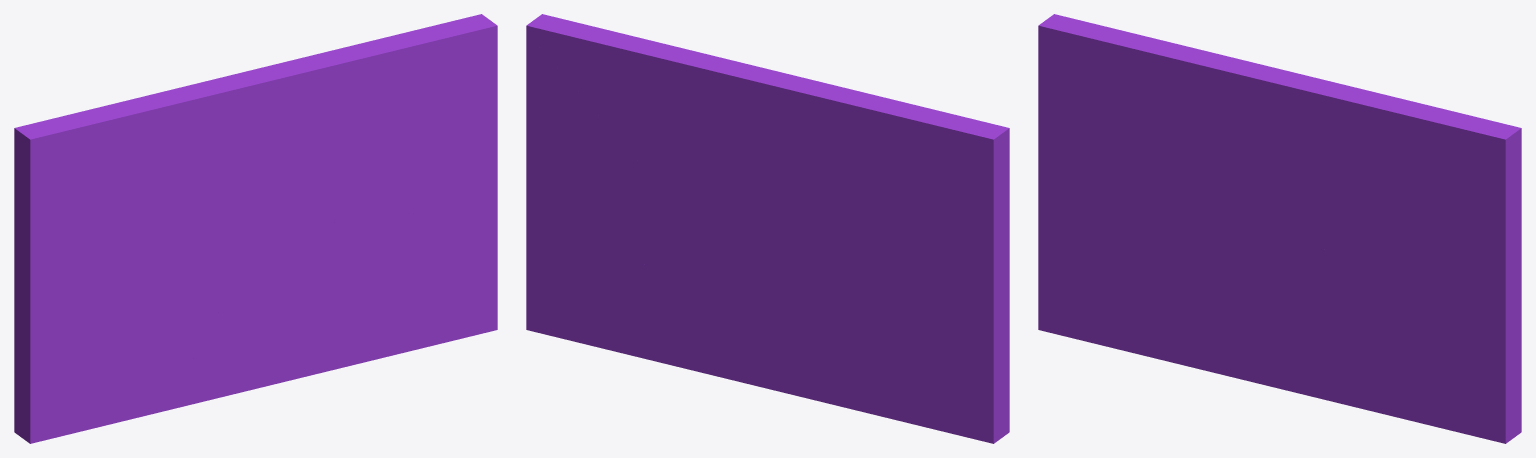
The model's file is Barrier_73_chunks.fbx.
3 renders of one model, left to right at view 1: azimuth 30°, elevation 25°; view 2: azimuth 150°, elevation 25°; view 3: azimuth 330°, elevation 25°, orthographic.
Parts seen in each view (by area): view 1: Barrier_73_0, Barrier_73_8, Barrier_73_9, Barrier_73_3, Barrier_73_2, Barrier_73_4, Barrier_73_6, Barrier_73_7, Barrier_73_5; view 2: Barrier_73_0, Barrier_73_3, Barrier_73_9, Barrier_73_2, Barrier_73_8, Barrier_73_7, Barrier_73_6, Barrier_73_5, Barrier_73_1; view 3: Barrier_73_0, Barrier_73_8, Barrier_73_3, Barrier_73_9, Barrier_73_2, Barrier_73_4, Barrier_73_6, Barrier_73_7, Barrier_73_5.
Boxes of the visible parts, x1,y1,x2,y2 form: Barrier_73_0: (14, 88, 262, 443); Barrier_73_8: (340, 15, 497, 214); Barrier_73_9: (178, 45, 398, 193); Barrier_73_3: (325, 195, 497, 371); Barrier_73_2: (164, 231, 336, 411); Barrier_73_4: (269, 210, 446, 305); Barrier_73_6: (243, 162, 374, 232); Barrier_73_7: (355, 14, 482, 47); Barrier_73_5: (299, 201, 459, 226); Barrier_73_0: (771, 88, 1009, 443); Barrier_73_3: (526, 200, 698, 371); Barrier_73_9: (638, 38, 844, 186); Barrier_73_2: (685, 254, 854, 409); Barrier_73_8: (526, 14, 652, 216); Barrier_73_7: (526, 25, 690, 177); Barrier_73_6: (628, 156, 784, 229); Barrier_73_5: (554, 204, 740, 292); Barrier_73_1: (712, 215, 792, 296); Barrier_73_0: (1038, 14, 1270, 362); Barrier_73_8: (1349, 114, 1521, 309); Barrier_73_3: (1334, 297, 1521, 443); Barrier_73_9: (1203, 54, 1408, 199); Barrier_73_2: (1172, 232, 1344, 401); Barrier_73_4: (1277, 234, 1454, 340); Barrier_73_6: (1252, 184, 1382, 268); Barrier_73_7: (1395, 97, 1521, 133); Barrier_73_5: (1308, 244, 1467, 299).
Size of the model in its own units: 462 by 288 by 27.2.
